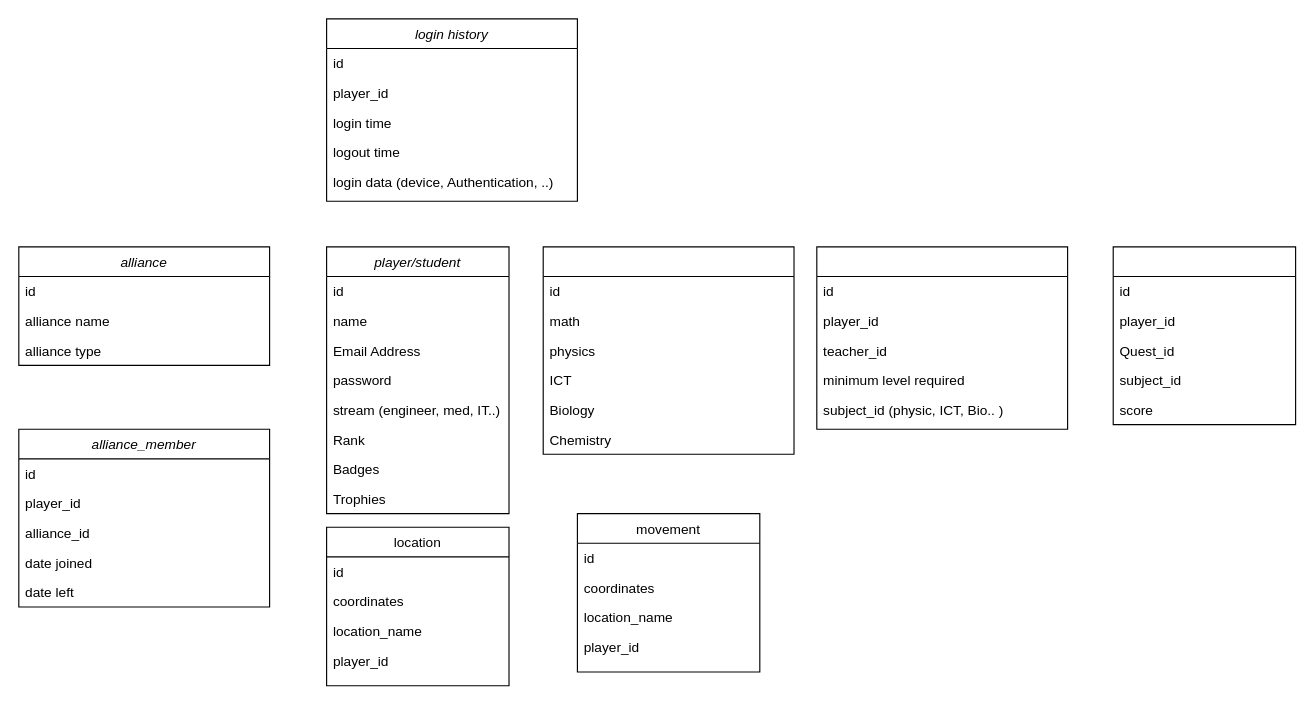
Image size: 1314x705. Some labels were removed from this diagram. The box of each missing label's shape, as (x1, y1, x2, y2) in pixels:
Quest: (816, 246, 1068, 429)
Results: (1112, 246, 1296, 425)
subjects: (542, 246, 794, 454)
